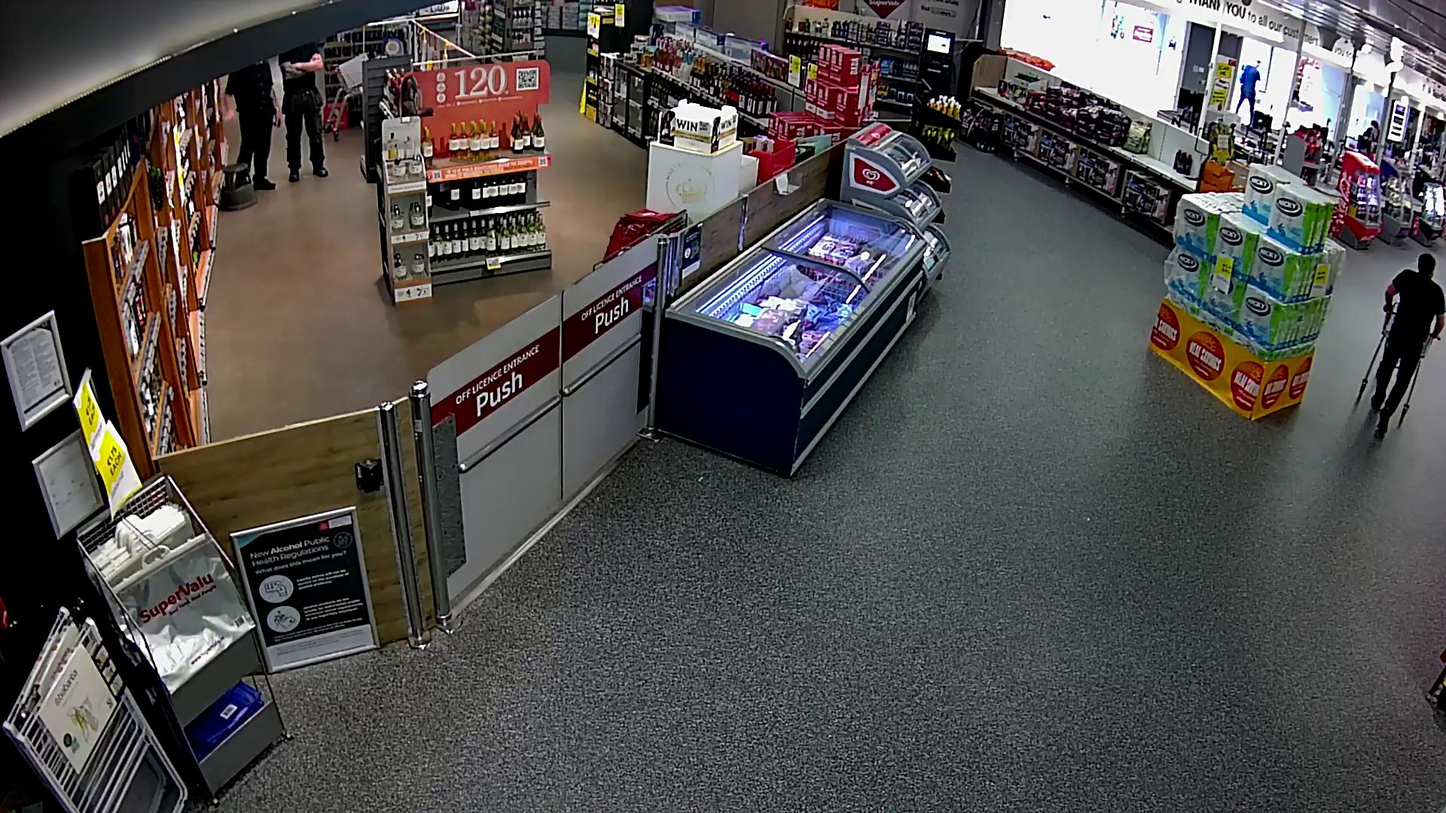empty-trolly: (1356, 300, 1436, 427)
person: (1375, 253, 1446, 432)
person-with-empty-basket-trolly: (1356, 253, 1446, 434)
